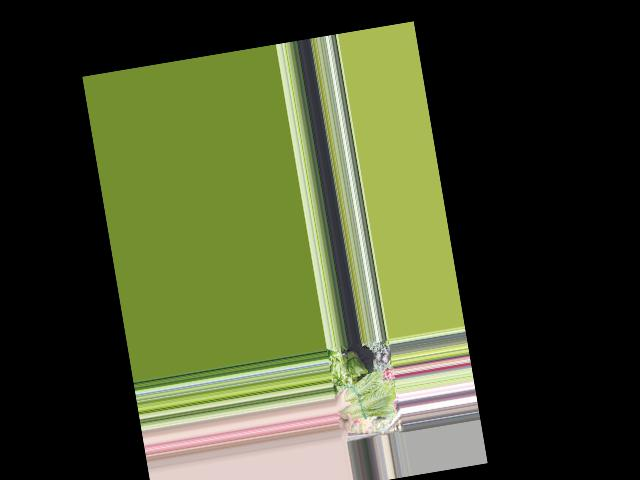lettuce: (330, 368, 396, 424)
